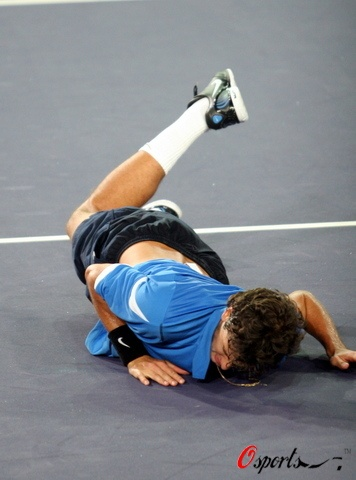falling: (50, 53, 344, 413)
